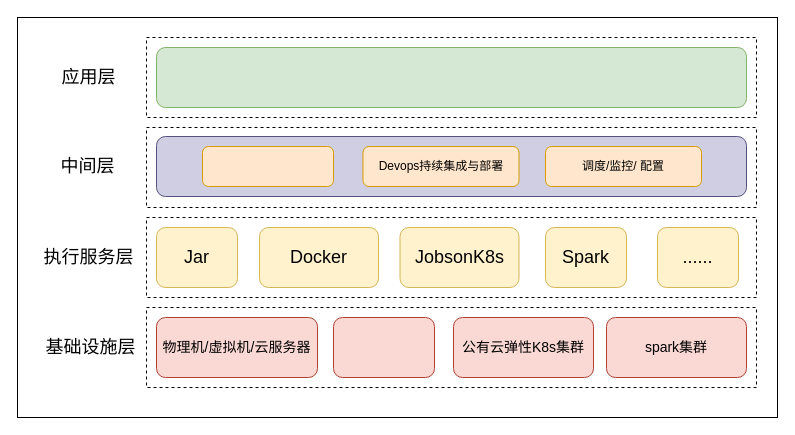
This 795x435 diagram has some shape labels left out. Here are the shapes that lost their labels. From the top down, the centre of each, then its label:
At (451,77): "KingdomWind Lab".
At (268,166): "微服务应用开发环境".
At (383,347): "自建K8s集群".
